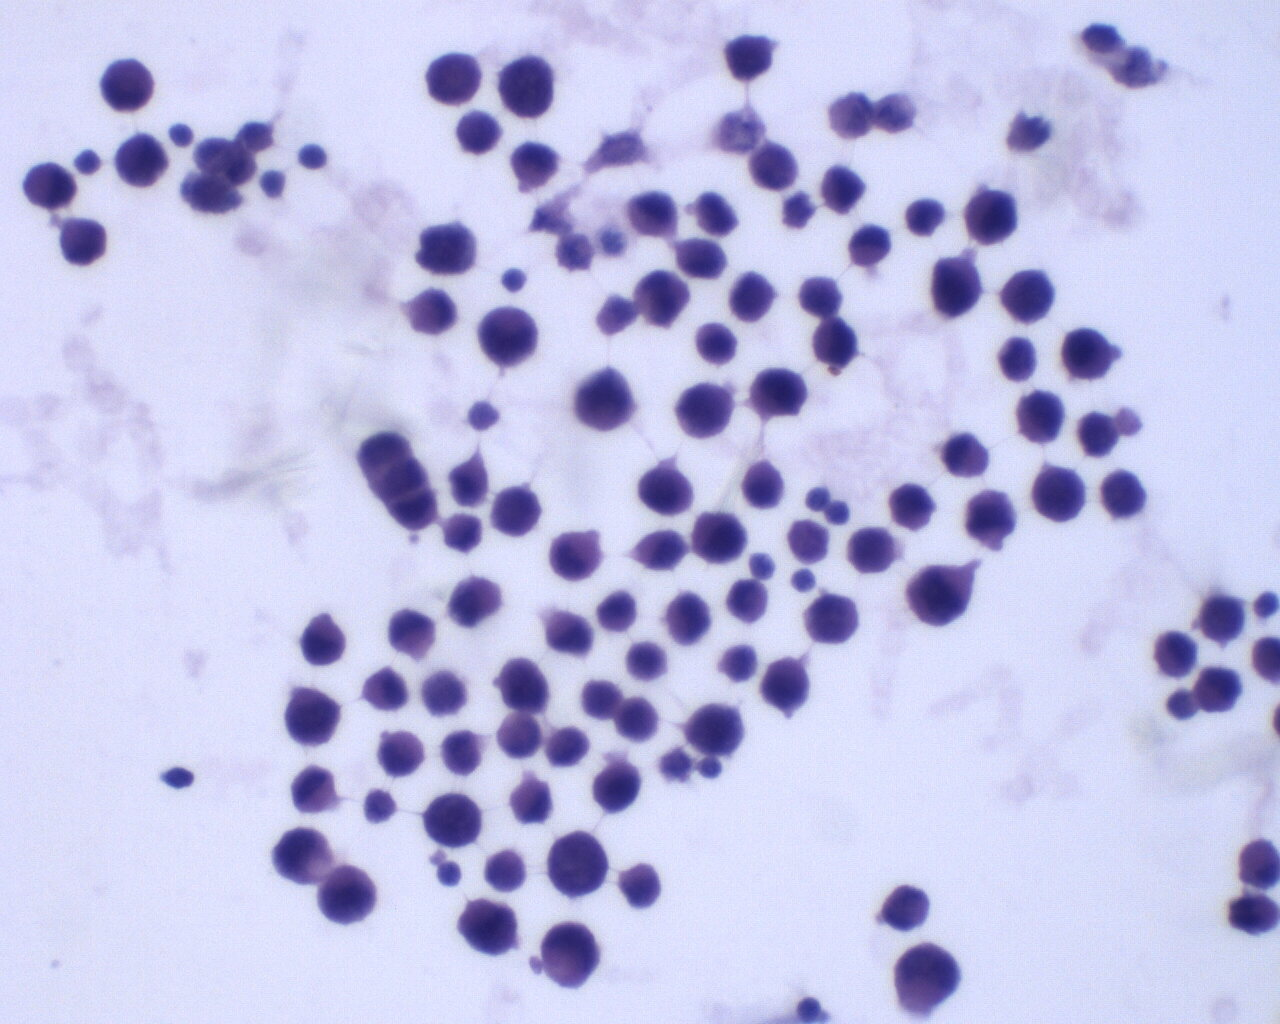ab: (891, 940, 964, 1019), (904, 563, 976, 631), (572, 366, 642, 433), (538, 920, 602, 990), (546, 827, 609, 895), (959, 486, 1021, 556), (317, 863, 381, 927), (496, 52, 559, 118), (475, 305, 542, 366), (930, 253, 988, 322), (458, 894, 519, 959), (686, 698, 750, 760), (631, 267, 692, 331), (281, 685, 343, 747), (272, 827, 334, 887), (676, 379, 736, 443), (693, 506, 753, 564), (749, 364, 811, 421), (423, 792, 485, 848), (1032, 463, 1089, 525), (496, 655, 554, 714), (486, 482, 544, 539), (426, 50, 484, 108), (113, 131, 169, 189), (802, 594, 863, 647), (1001, 266, 1055, 325), (964, 188, 1019, 245), (1061, 327, 1115, 383), (761, 655, 814, 713), (637, 463, 696, 515), (591, 757, 643, 816), (1015, 388, 1066, 446), (884, 483, 939, 535), (727, 271, 779, 324), (811, 316, 864, 368), (59, 214, 110, 269), (1198, 590, 1247, 647), (816, 165, 869, 215), (1151, 627, 1198, 681), (995, 336, 1045, 387), (846, 523, 894, 575), (725, 577, 771, 626), (795, 273, 844, 315)
lymph: (292, 140, 329, 177)
